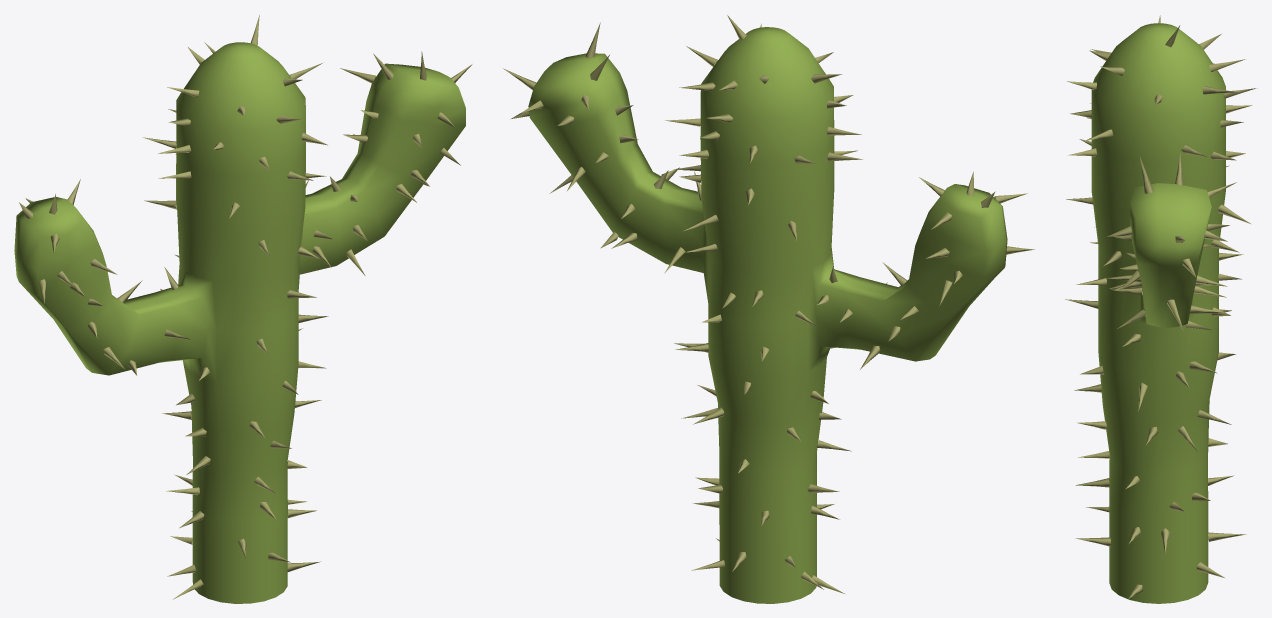
The model's file is CactusVar1.fbx.
The picture shows the model from 3 angles, left to right: view 1: azimuth 30°, elevation 25°; view 2: azimuth 150°, elevation 25°; view 3: azimuth 270°, elevation 25°; orthographic projection. The views are drawn at different scales.
Parts seen in each view (by area): view 1: Cactus5; view 2: Cactus5; view 3: Cactus5.
Part boxes in pixels (left/top/right/bottom): Cactus5: left=14, top=15, right=472, bottom=603; Cactus5: left=503, top=15, right=1034, bottom=603; Cactus5: left=1065, top=15, right=1257, bottom=603.
Size of the model in its own units: 3.57 by 3.99 by 1.22.
